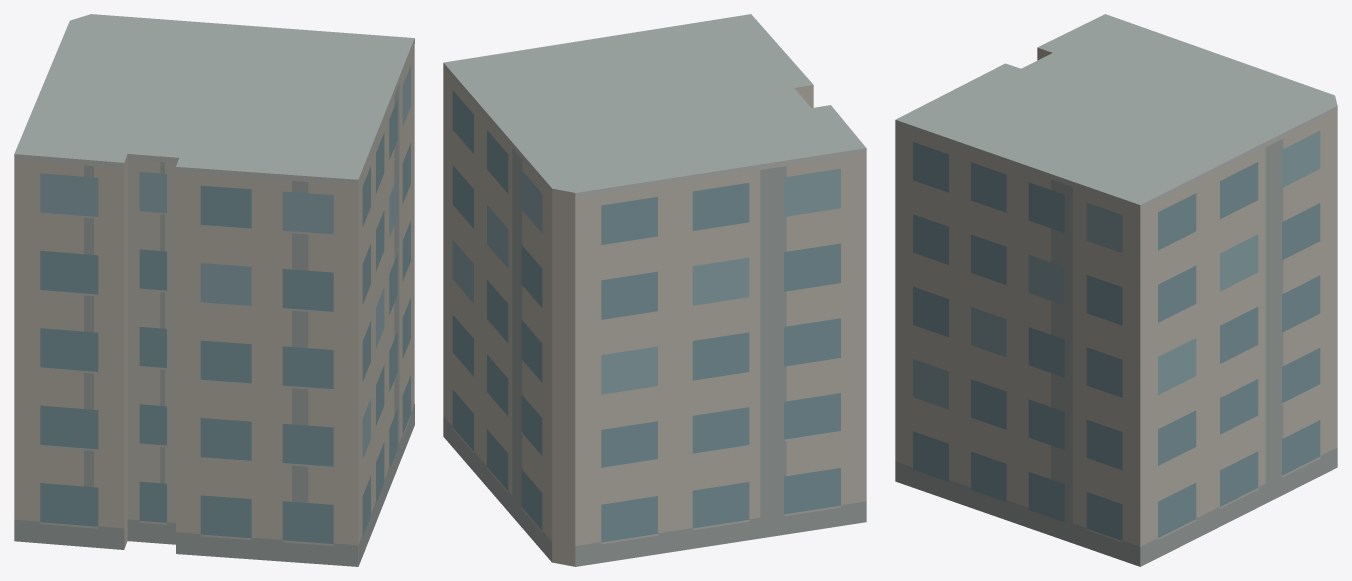
The model's file is survey-upis-32846113.glb.
3 views of the same model, side by side, from view 1: azimuth 30°, elevation 25°; view 2: azimuth 150°, elevation 25°; view 3: azimuth 270°, elevation 25° (orthographic). The views are drawn at different scales.
Visible parts, largest first — view 1: survey-upis-32846113.tmp; view 2: survey-upis-32846113.tmp; view 3: survey-upis-32846113.tmp.
Part boxes in pixels (<box>): survey-upis-32846113.tmp: <box>14,14,414,566</box>; survey-upis-32846113.tmp: <box>443,14,866,566</box>; survey-upis-32846113.tmp: <box>895,14,1337,566</box>.
Bounding box in the file's own units: 18.37 × 16.2 × 17.96.
